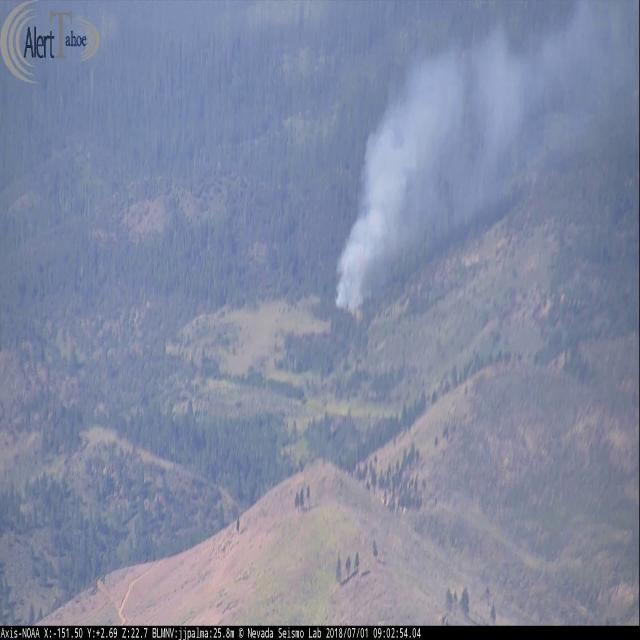smoke: (332, 0, 640, 318)
